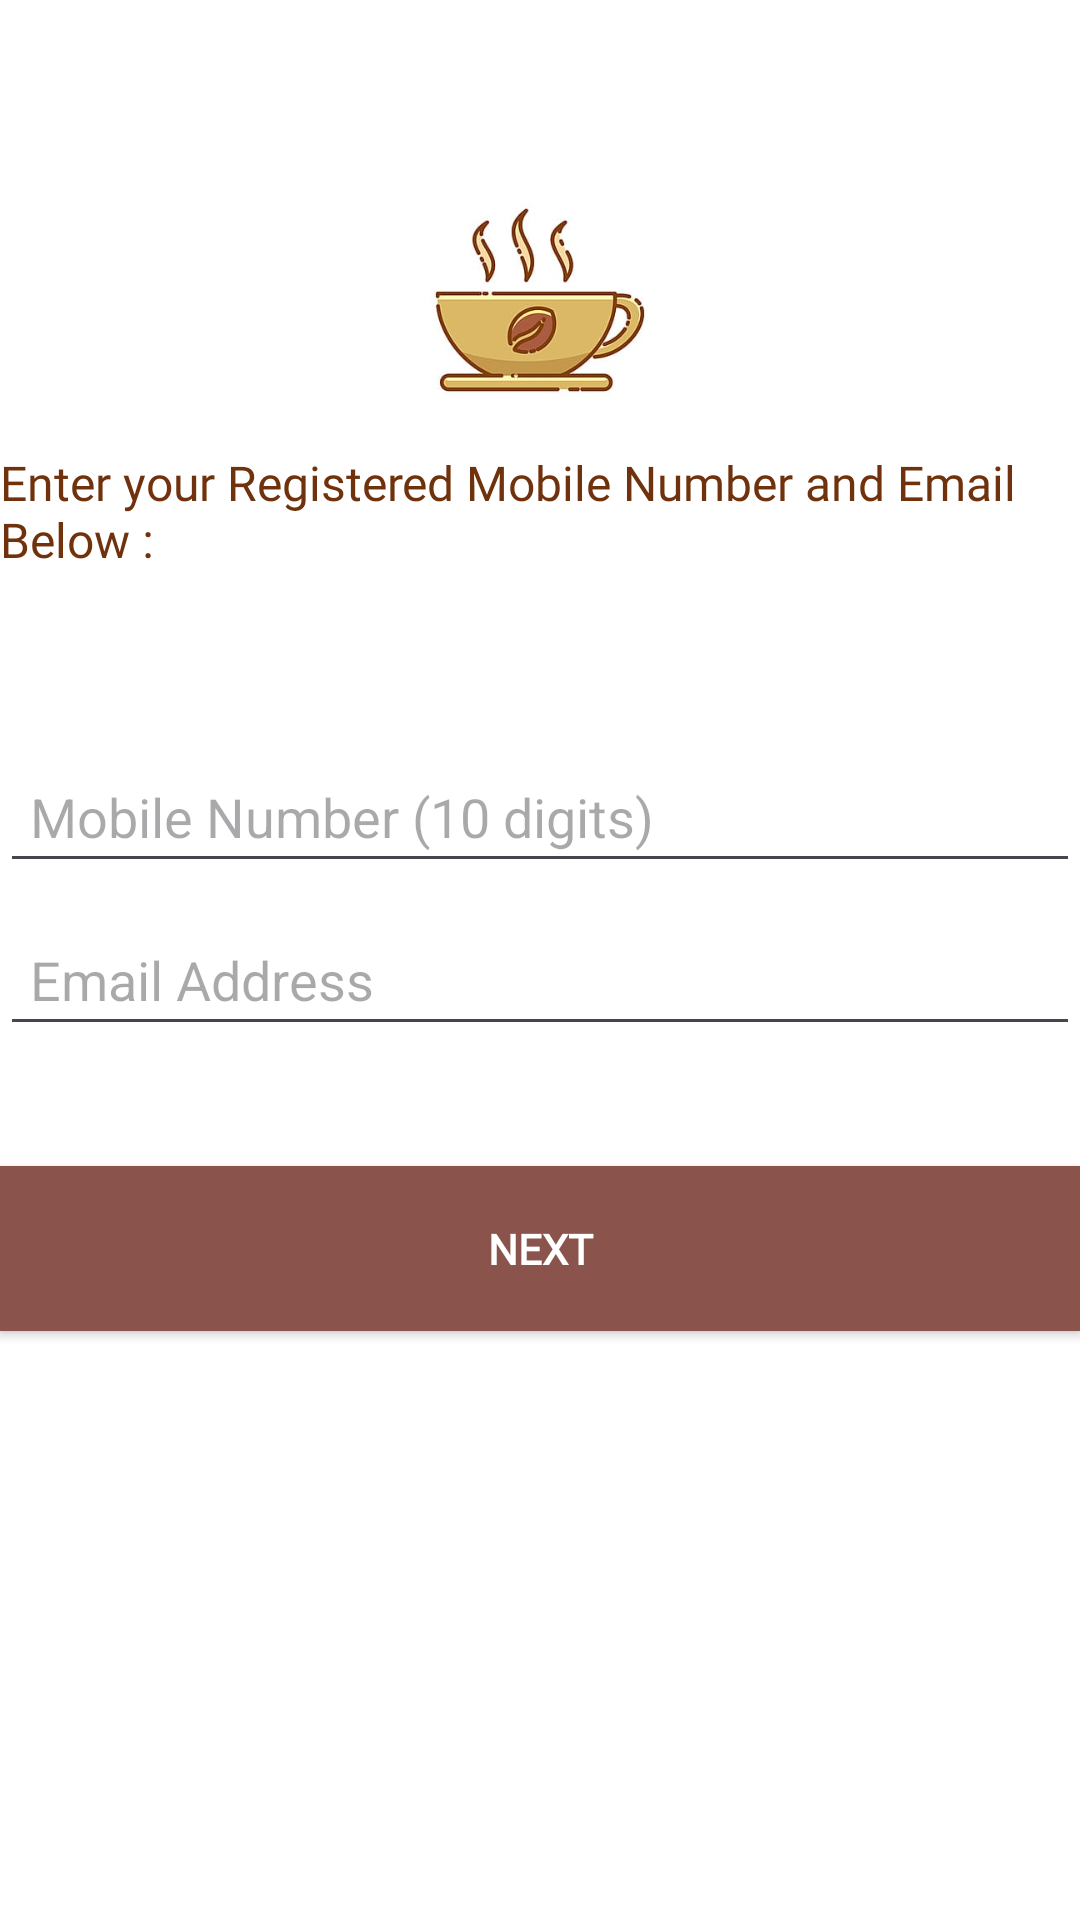

Where icons sit on this 1080x1920 app screen, as (x1, y1, x2, y2):
cup: (435, 208, 645, 392)
